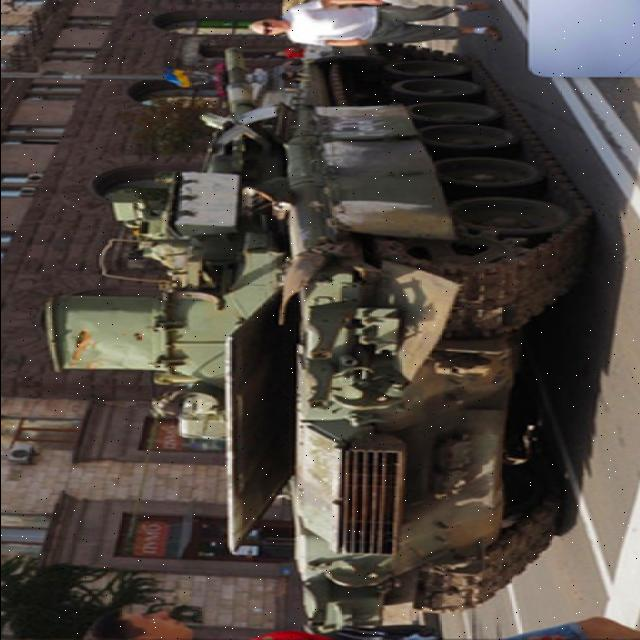TANK: (92, 26, 598, 626)
